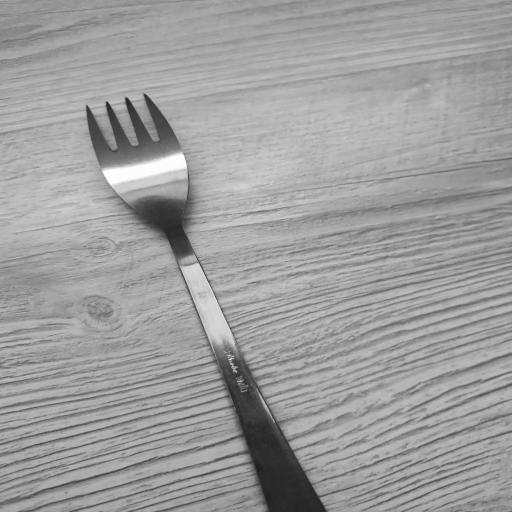fork: (78, 89, 334, 512)
